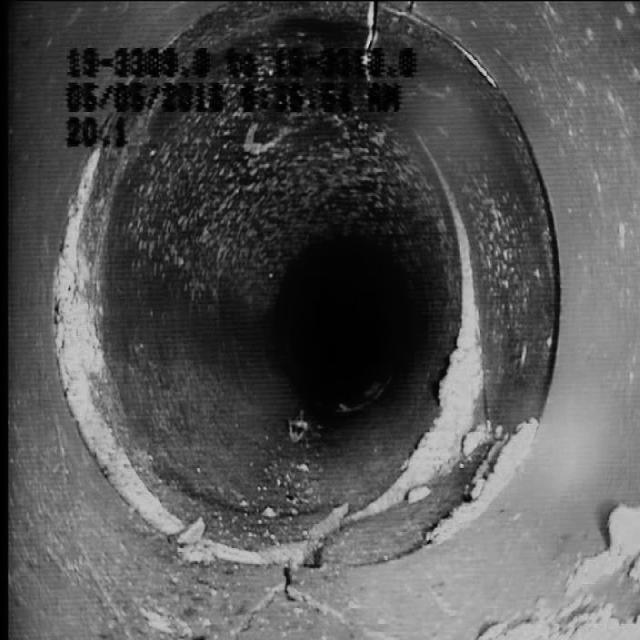Fracture: (207, 420, 488, 604)
